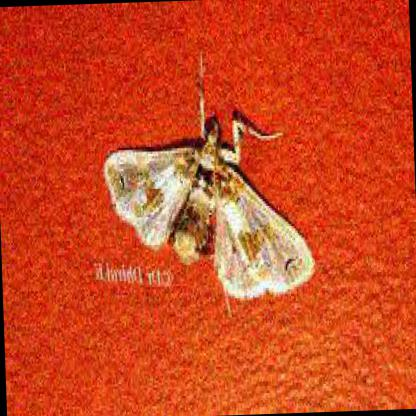leucinodes: (104, 90, 317, 302)
